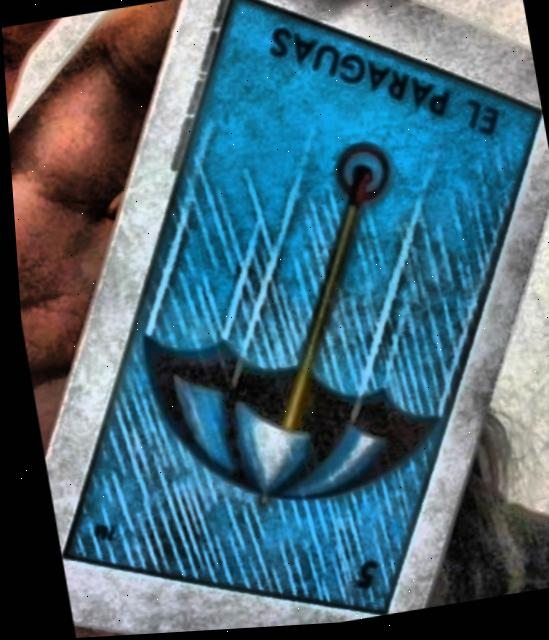El Paraguas: (53, 0, 538, 617)
